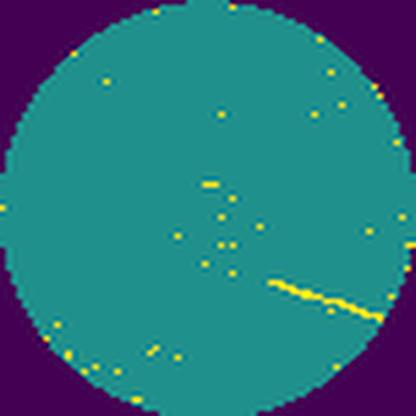Scratch: (264, 272, 388, 326)
